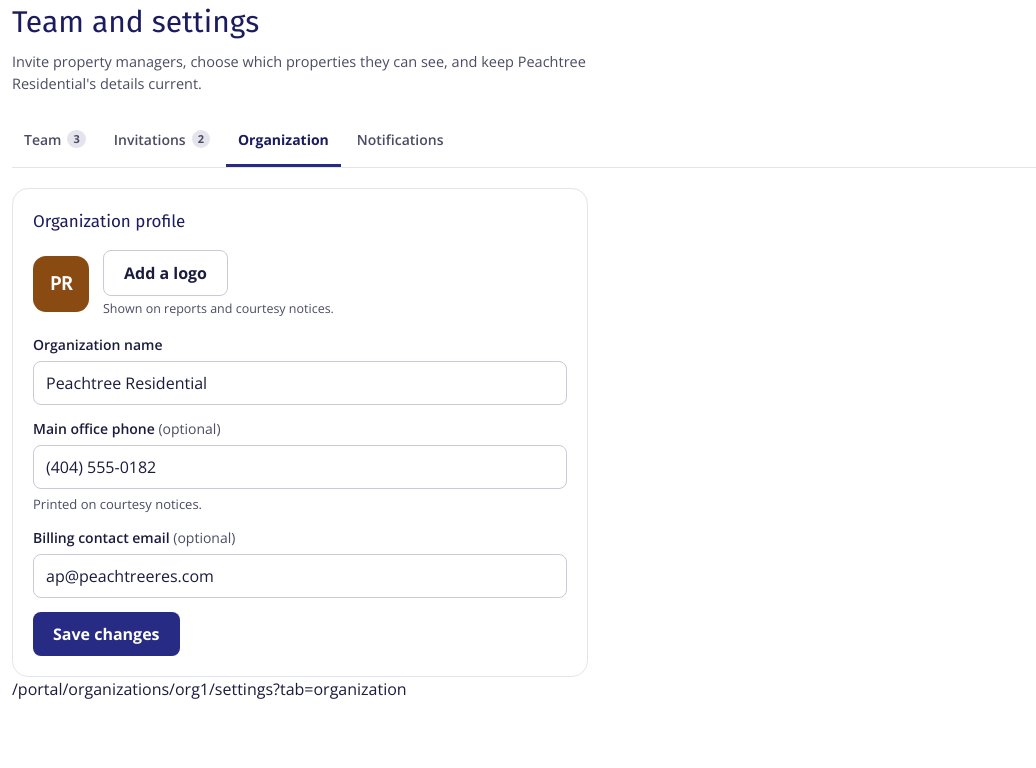
TeamSettingsPage › saves the organization profile and shows field errors
Replace the text in the field labelled "Main office phone (optional)" with "call me" at (300, 467), box [33,445,567,489]
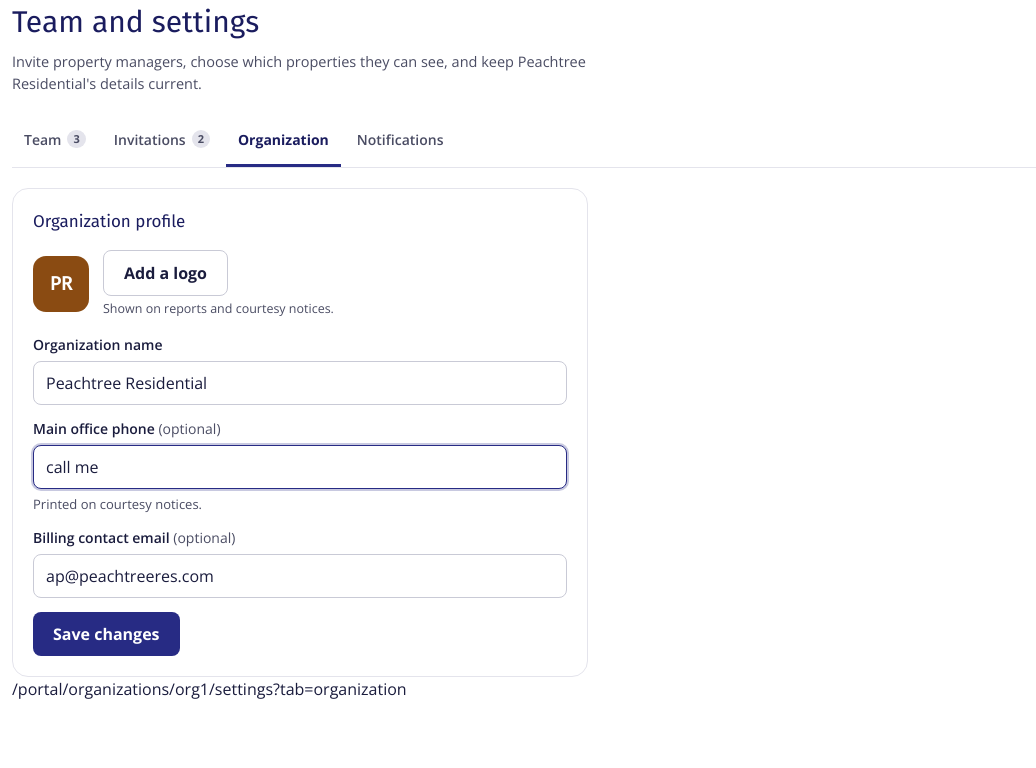
Click the button "Save changes".
click(106, 634)  # box [33,612,180,656]
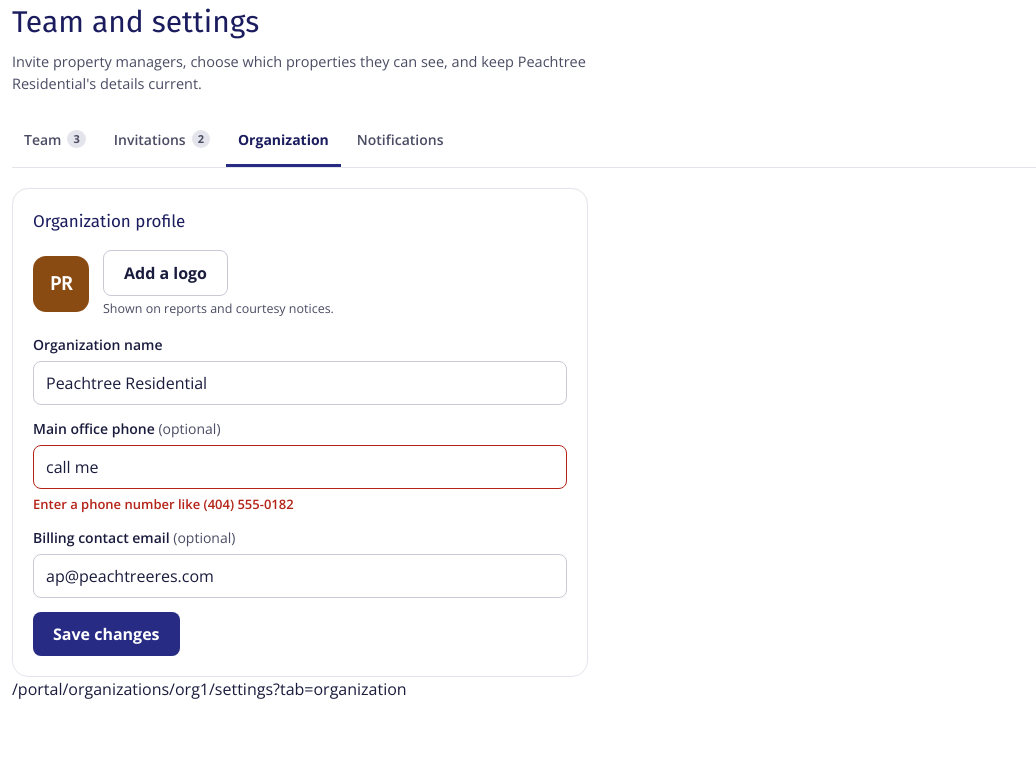
Check: the text "Enter a phone number like (404) 555-0182" is shown, box [33,495,294,513]
Replace the text in the field labelled "Main office phone (optional)" with "(404) 555-0100" at (300, 467), box [33,445,567,489]
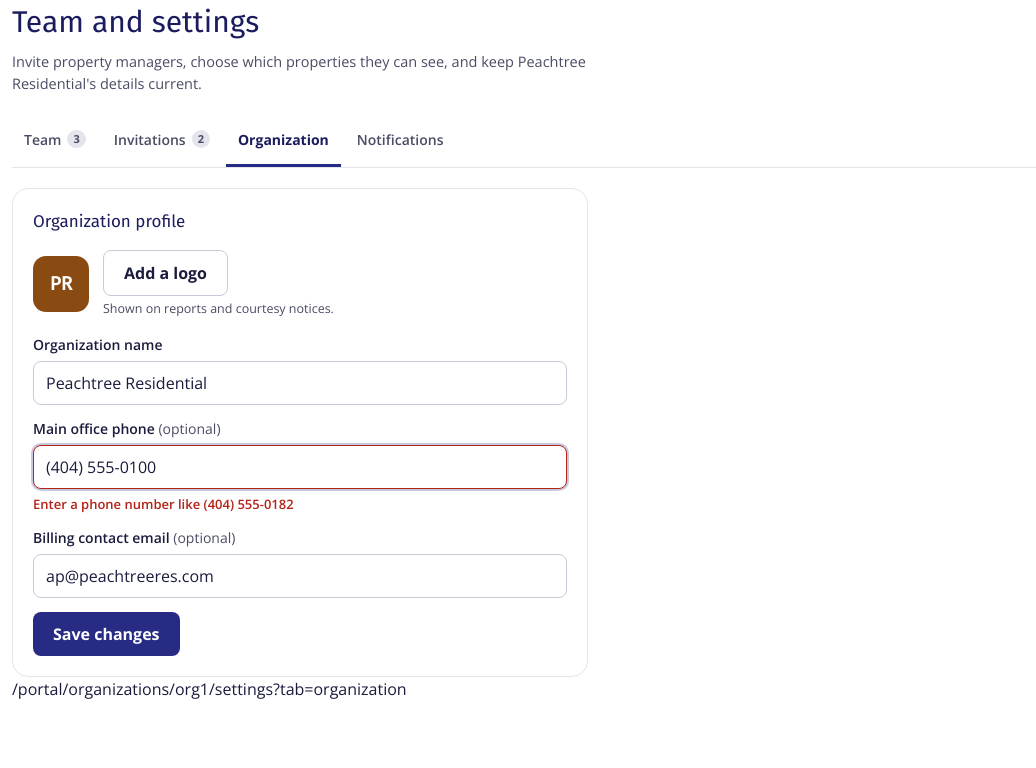
Click the button "Save changes".
click(106, 634)  # box [33,612,180,656]
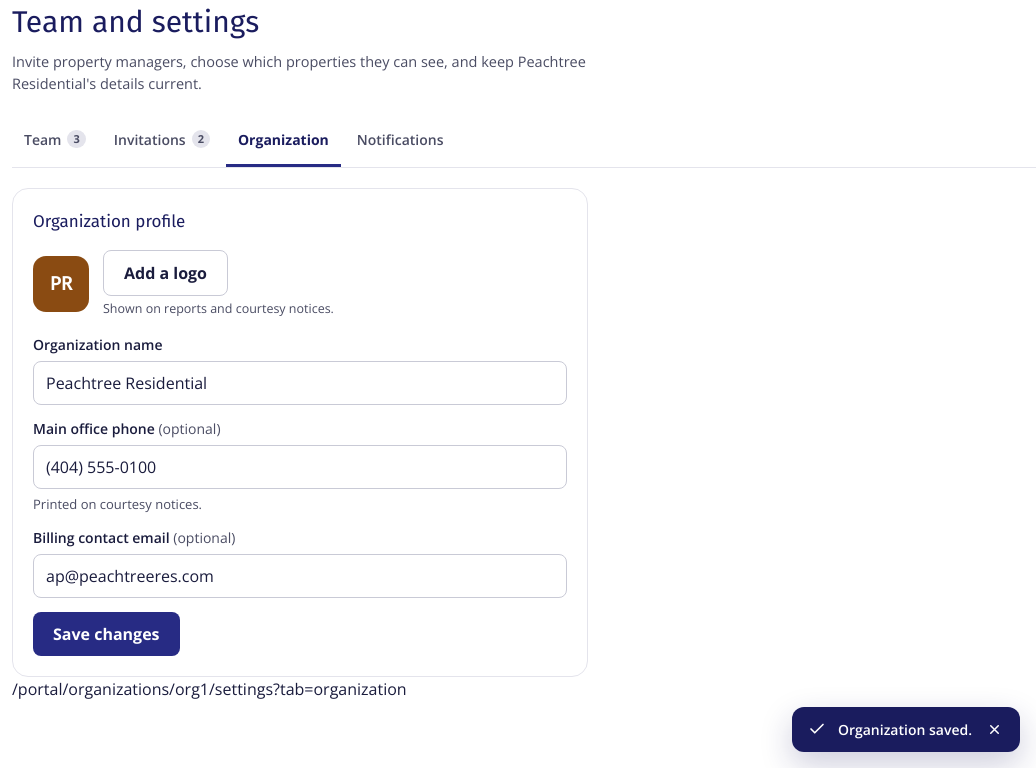
Check: the text "Organization saved." is shown, box [838,719,972,740]
